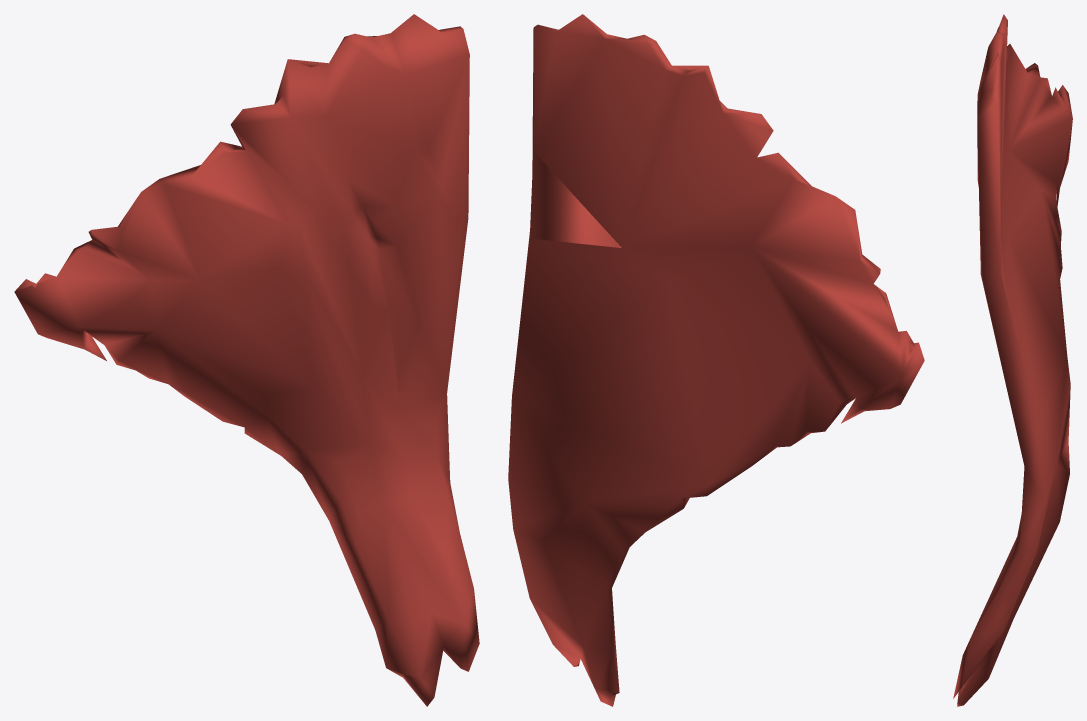
File: musculos-procerus-muscle-r.glb
3 renders of one model, left to right at view 1: azimuth 30°, elevation 25°; view 2: azimuth 150°, elevation 25°; view 3: azimuth 270°, elevation 25°, orthographic. The views are drawn at different scales.
Parts seen in each view (by area): view 1: Procerus muscle.r; view 2: Procerus muscle.r; view 3: Procerus muscle.r.
Part boxes in pixels (box(x1,y1,x2,y2)): Procerus muscle.r: box(14, 14, 479, 706); Procerus muscle.r: box(508, 14, 924, 706); Procerus muscle.r: box(953, 14, 1072, 706).
Bounding box in the file's own units: 0.0232 × 0.0365 × 0.00606.
